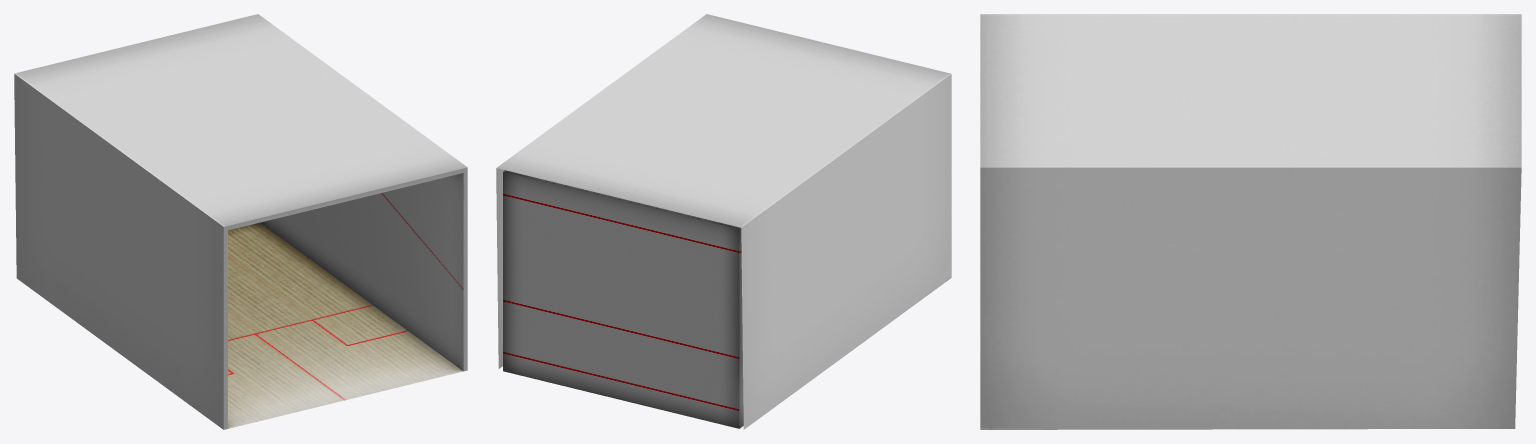
Rendered from Court_1.DAE.
3 views of the same model, side by side, from view 1: azimuth 30°, elevation 25°; view 2: azimuth 150°, elevation 25°; view 3: azimuth 270°, elevation 25° (orthographic). The views are drawn at different scales.
Visible parts, largest first — view 1: tutaj; view 2: tutaj; view 3: tutaj.
Part boxes in pixels (x1,y1,x2,y2): tutaj: (14,14,467,429); tutaj: (496,14,951,429); tutaj: (980,14,1521,429).
Size of the model in its own units: 261 by 208 by 388.
Materials: 1 (1 with a texture image).
